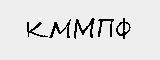К: (25, 20, 47, 41)
М: (47, 17, 71, 41), (74, 15, 94, 43)
П: (95, 17, 115, 40)
Ф: (115, 17, 134, 41)
